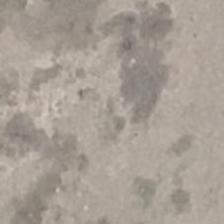Non_Crack: (3, 6, 211, 224)
